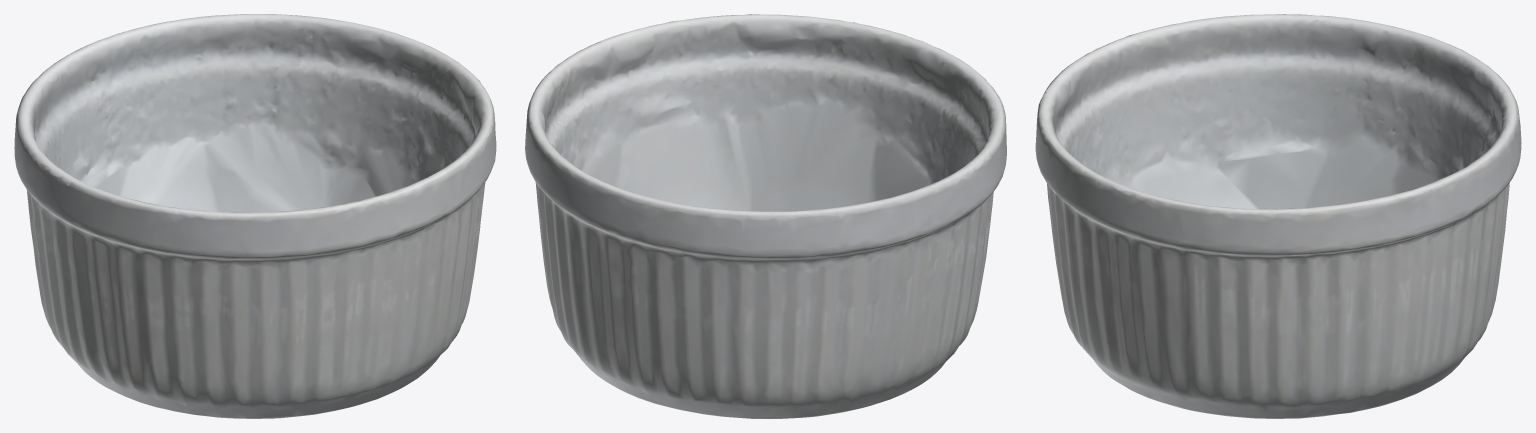
Rendered from Utana_5_Porcelain_Ramekin_Large.glb.
The picture shows the model from 3 angles, left to right: view 1: azimuth 30°, elevation 25°; view 2: azimuth 150°, elevation 25°; view 3: azimuth 270°, elevation 25°; orthographic projection.
Parts seen in each view (by area): view 1: model.obj; view 2: model.obj; view 3: model.obj.
Boxes of the visible parts, left/top/right/bottom form: model.obj: left=14, top=14, right=496, bottom=418; model.obj: left=525, top=14, right=1006, bottom=418; model.obj: left=1035, top=14, right=1521, bottom=418.
Size of the model in its own units: 1 by 0.5253 by 0.9951.
1 material, 1 textured.
